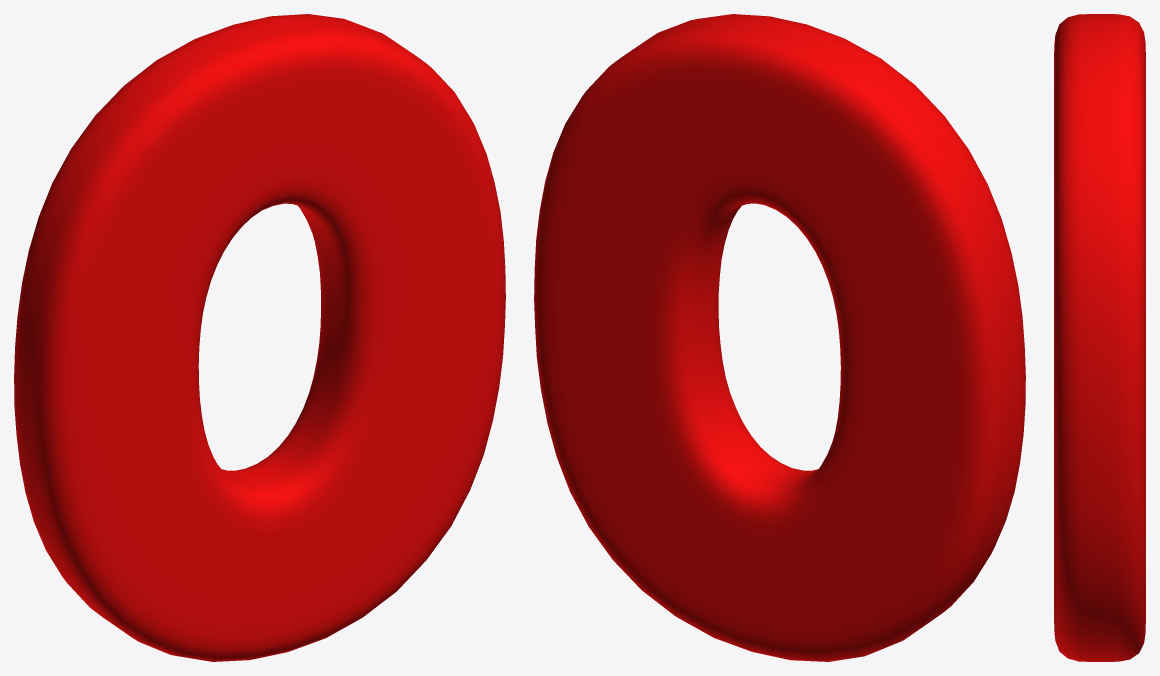
3 views of the same model, side by side, from view 1: azimuth 30°, elevation 25°; view 2: azimuth 150°, elevation 25°; view 3: azimuth 270°, elevation 25° (orthographic). The views are drawn at different scales.
Parts seen in each view (by area): view 1: 0; view 2: 0; view 3: 0.
Boxes of the visible parts, x1,y1,x2,y2 form: 0: [14, 14, 505, 661]; 0: [534, 14, 1025, 661]; 0: [1054, 14, 1145, 661].
Bounding box in the file's own units: 114 × 143 × 20.
